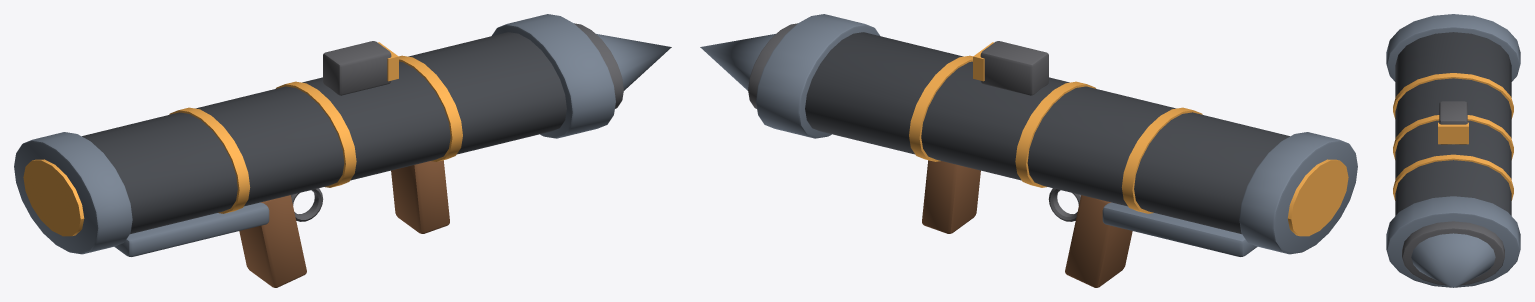
The model's file is SGP_Launcher_Classic.glb.
The picture shows the model from 3 angles, left to right: view 1: azimuth 30°, elevation 25°; view 2: azimuth 150°, elevation 25°; view 3: azimuth 270°, elevation 25°; orthographic projection. The views are drawn at different scales.
Visible parts, largest first — view 1: SGP_Launcher_Classic; view 2: SGP_Launcher_Classic; view 3: SGP_Launcher_Classic.
Part boxes in pixels (bbox=[...]): SGP_Launcher_Classic: bbox=[14, 14, 671, 287]; SGP_Launcher_Classic: bbox=[700, 14, 1357, 287]; SGP_Launcher_Classic: bbox=[1386, 14, 1520, 287].
Size of the model in its own units: 0.699 by 0.2197 by 0.1664.
